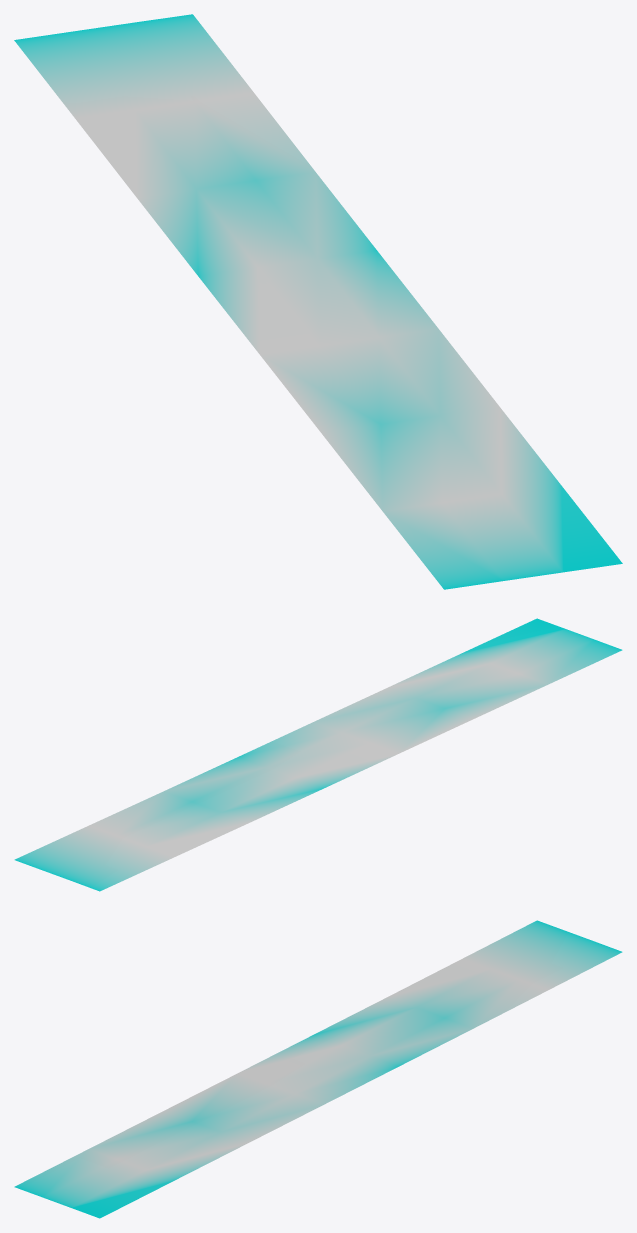
3 renders of one model, top to bottom at view 1: azimuth 30°, elevation 25°; view 2: azimuth 150°, elevation 25°; view 3: azimuth 330°, elevation 25°, orthographic. The views are drawn at different scales.
Visible parts, largest first — view 1: SpaceCenter_Long3_GenerateRoad_Asphalt_PCGMesh_Decal_Mesh_x9; view 2: SpaceCenter_Long3_GenerateRoad_Asphalt_PCGMesh_Decal_Mesh_x9; view 3: SpaceCenter_Long3_GenerateRoad_Asphalt_PCGMesh_Decal_Mesh_x9.
Boxes of the visible parts, left/top/right/bottom form: SpaceCenter_Long3_GenerateRoad_Asphalt_PCGMesh_Decal_Mesh_x9: left=14, top=14, right=622, bottom=589; SpaceCenter_Long3_GenerateRoad_Asphalt_PCGMesh_Decal_Mesh_x9: left=14, top=618, right=622, bottom=891; SpaceCenter_Long3_GenerateRoad_Asphalt_PCGMesh_Decal_Mesh_x9: left=14, top=920, right=622, bottom=1218.
Bounding box in the file's own units: 254 × 83.52 × 4.41.
